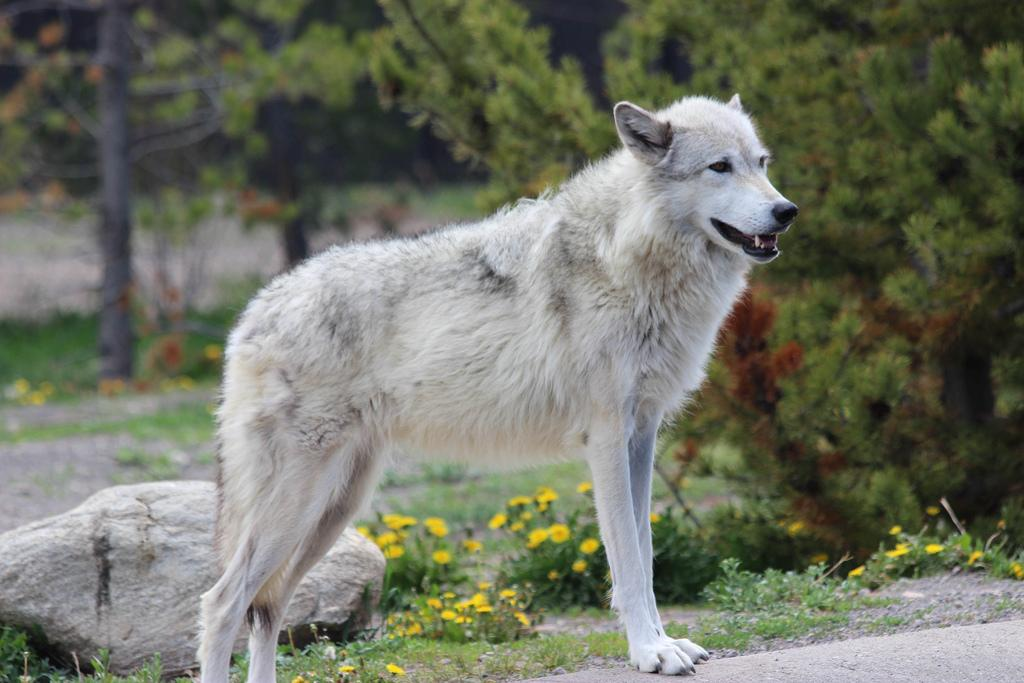Wolf: (195, 93, 804, 681)
